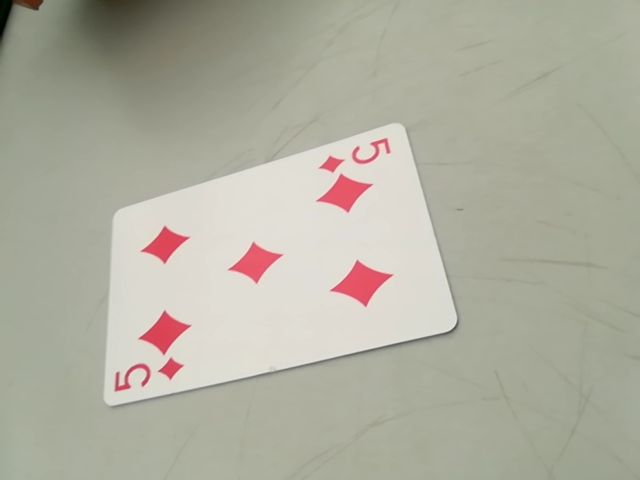fk 5: (109, 353, 190, 402), (315, 136, 400, 174)
